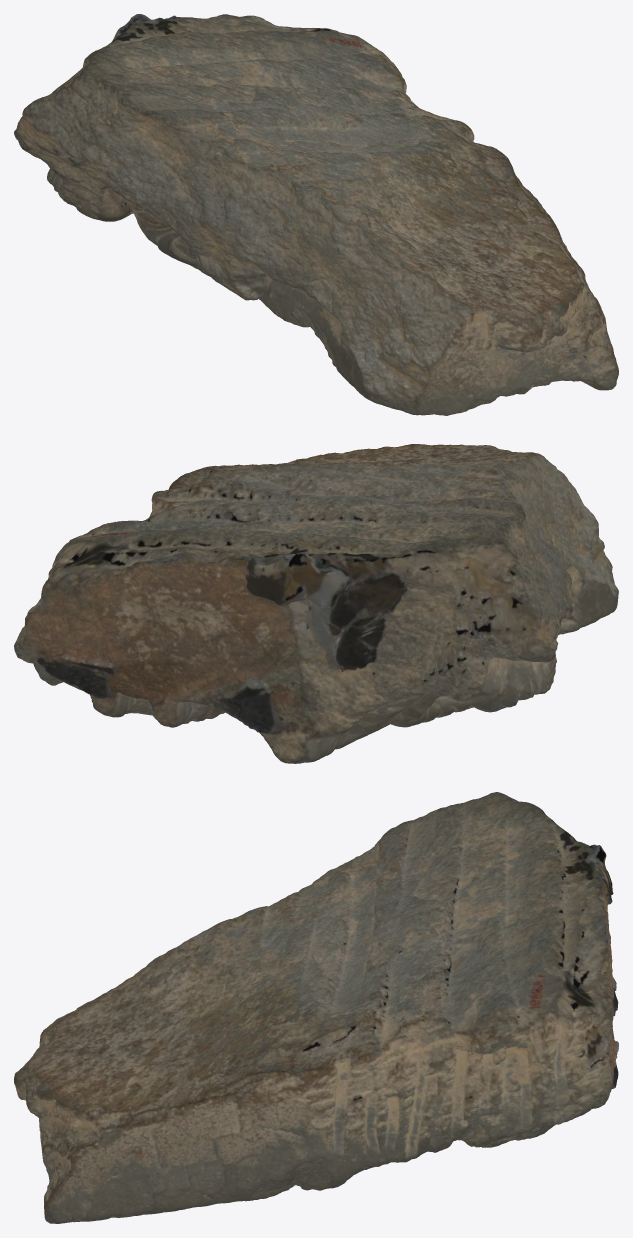
The model's file is preview.glb.
3 renders of one model, top to bottom at view 1: azimuth 30°, elevation 25°; view 2: azimuth 150°, elevation 25°; view 3: azimuth 270°, elevation 25°, orthographic. The views are drawn at different scales.
Visible parts, largest first — view 1: Object_2; view 2: Object_2; view 3: Object_2.
Boxes of the visible parts, left/top/right/bottom form: Object_2: left=14, top=14, right=618, bottom=415; Object_2: left=14, top=444, right=618, bottom=763; Object_2: left=14, top=792, right=618, bottom=1223.
Bounding box in the file's own units: 188 × 114 × 236.
1 material, 1 textured.
